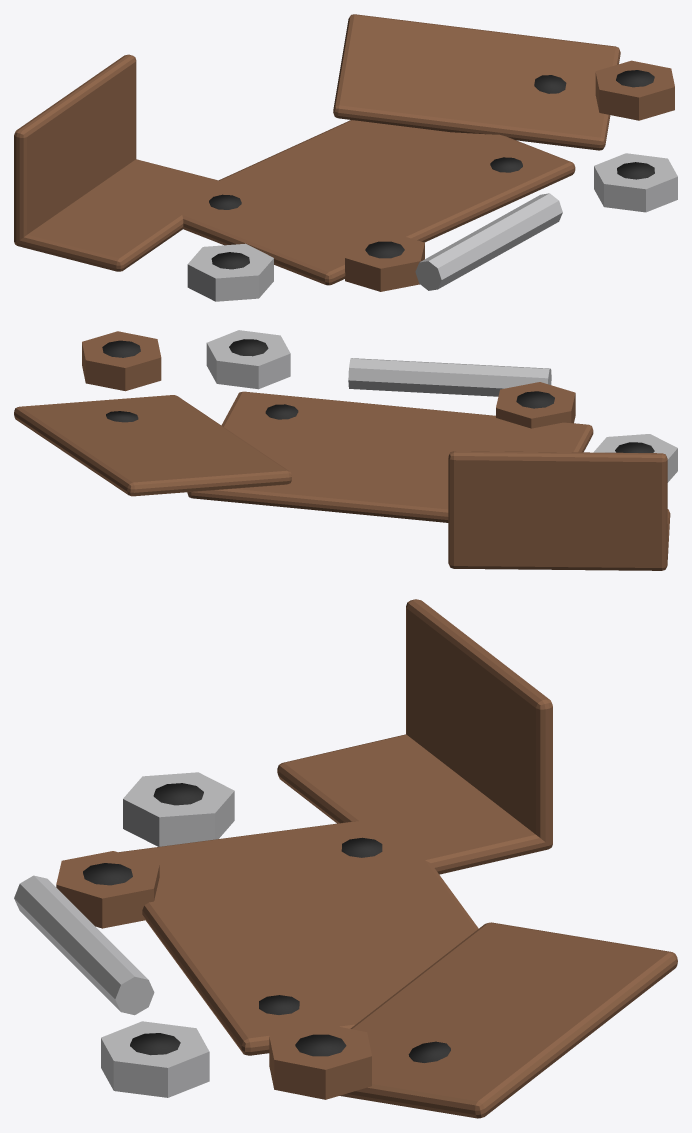
Rendered from Item_scrap_metal.fbx.
3 renders of one model, top to bottom at view 1: azimuth 30°, elevation 25°; view 2: azimuth 150°, elevation 25°; view 3: azimuth 270°, elevation 25°, orthographic. The views are drawn at different scales.
Visible parts, largest first — view 1: model.008; view 2: model.008; view 3: model.008.
Boxes of the visible parts, x1=… form: model.008: x1=14, y1=14, x2=677, y2=301; model.008: x1=14, y1=330, x2=677, y2=570; model.008: x1=14, y1=599, x2=677, y2=1118.
Size of the model in its own units: 0.1986 by 0.0355 by 0.1404.
